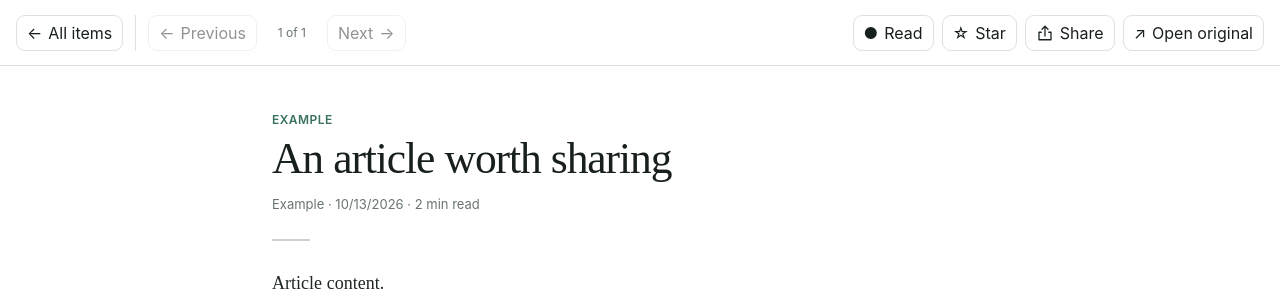
Test case: article sharing › prevents duplicate shares while the native sheet is open
Click the button with aria-label "Share article" at coordinates (1070, 32), box [1025,14,1115,50]
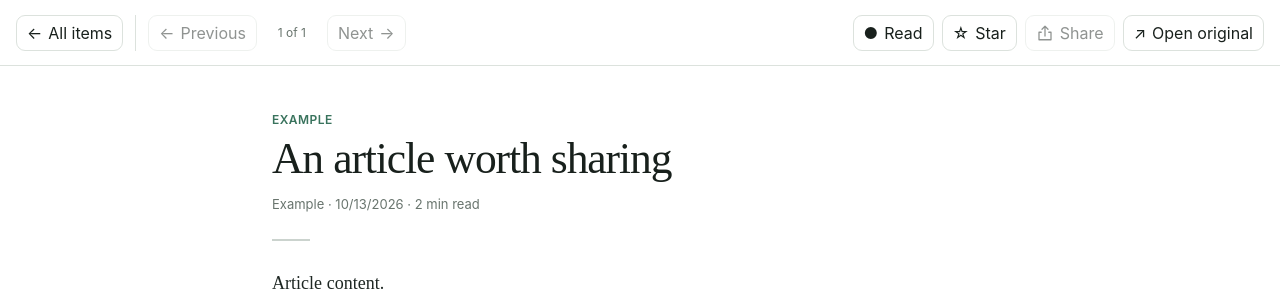
Check: the button with aria-label "Share article" is disabled
Click the button with aria-label "Share article" at coordinates (1070, 32), box [1025,14,1115,50]
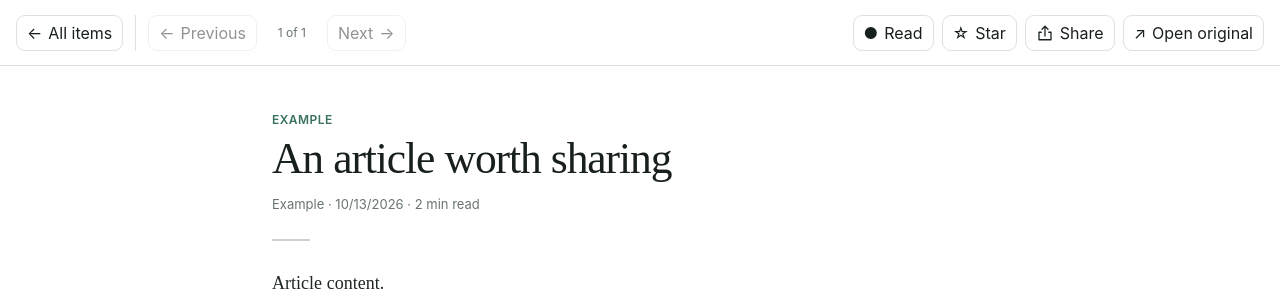
Check: the button with aria-label "Share article" is enabled, box [1025,14,1115,50]
